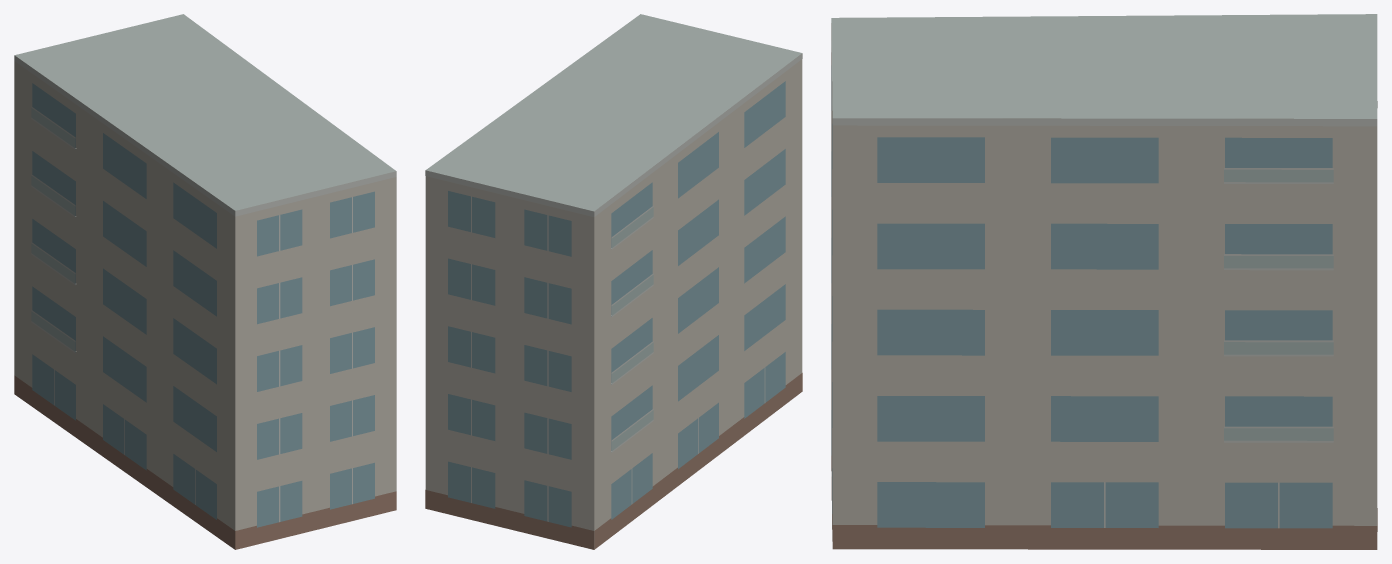
Rendered from survey-upis-32520129.glb.
The picture shows the model from 3 angles, left to right: view 1: azimuth 30°, elevation 25°; view 2: azimuth 150°, elevation 25°; view 3: azimuth 270°, elevation 25°; orthographic projection. The views are drawn at different scales.
Parts seen in each view (by area): view 1: survey-upis-32520129.tmp; view 2: survey-upis-32520129.tmp; view 3: survey-upis-32520129.tmp.
Boxes of the visible parts, x1,y1,x2,y2 form: survey-upis-32520129.tmp: [14, 14, 396, 549]; survey-upis-32520129.tmp: [425, 14, 802, 549]; survey-upis-32520129.tmp: [831, 14, 1377, 549].
Size of the model in its own units: 7.54 by 14.35 by 16.49.
